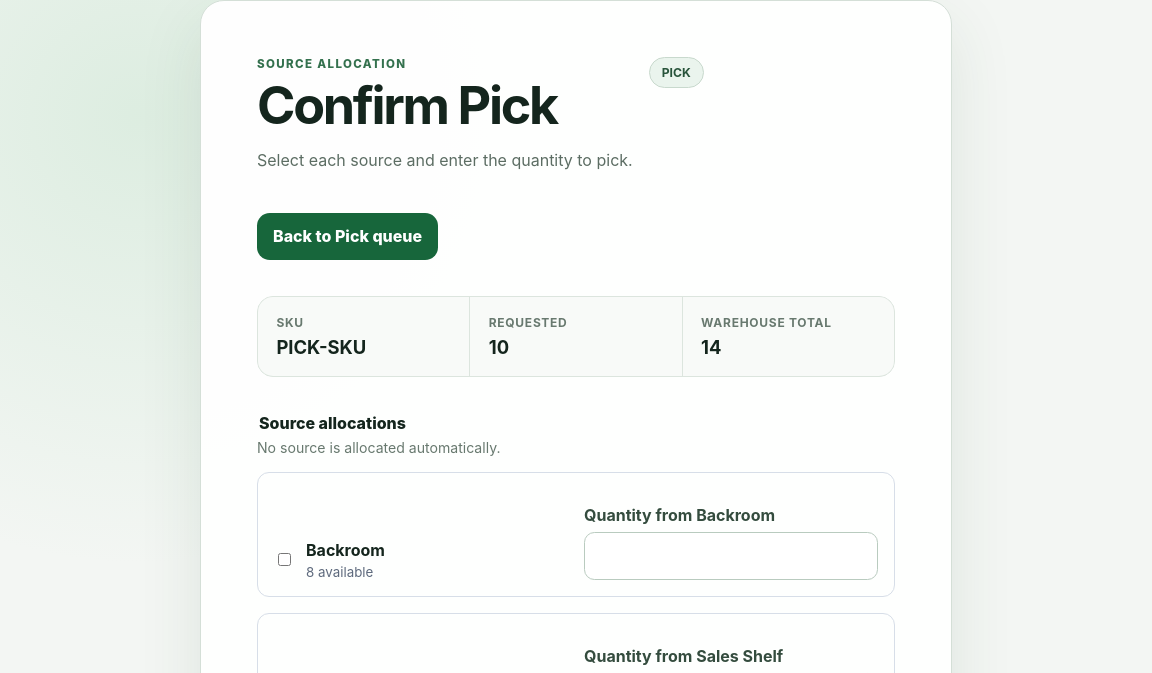
Test: US-PICK-001 Pick page › keeps entered allocations recoverable after an insufficient-stock conflict
Expected: the text "PICK-SKU" is shown, x1=276 y1=336 x2=366 y2=358
Click the checkbox labelled "Backroom 8 available". click: (284, 560)
box: x1=278 y1=553 x2=291 y2=566
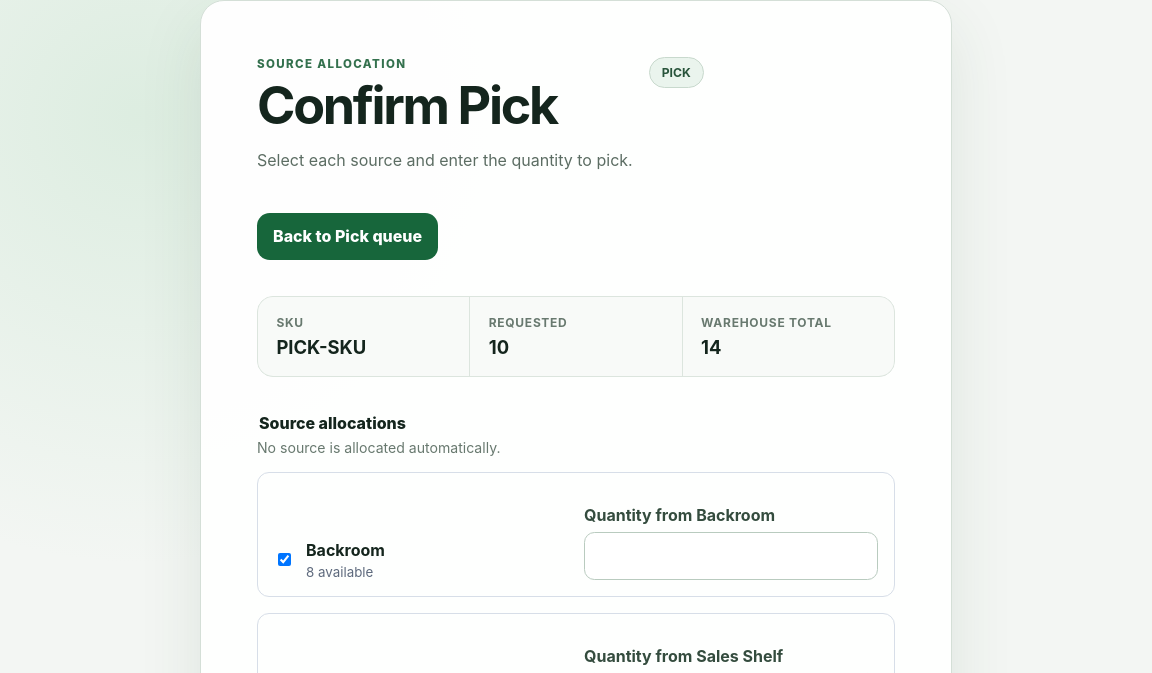
Type "10" into the field labelled "Quantity from Backroom". click: (731, 556)
box: x1=584 y1=532 x2=878 y2=580
(page scrolled)
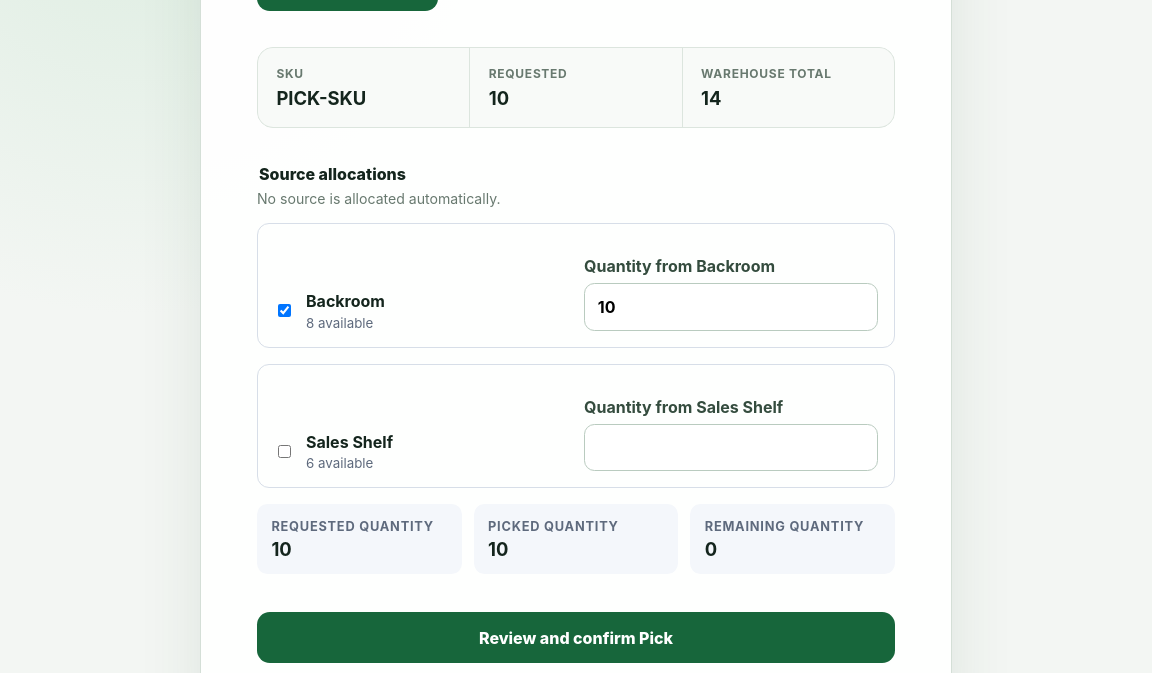
Click the button "Review and confirm Pick". click: (576, 638)
box: x1=257 y1=612 x2=895 y2=663
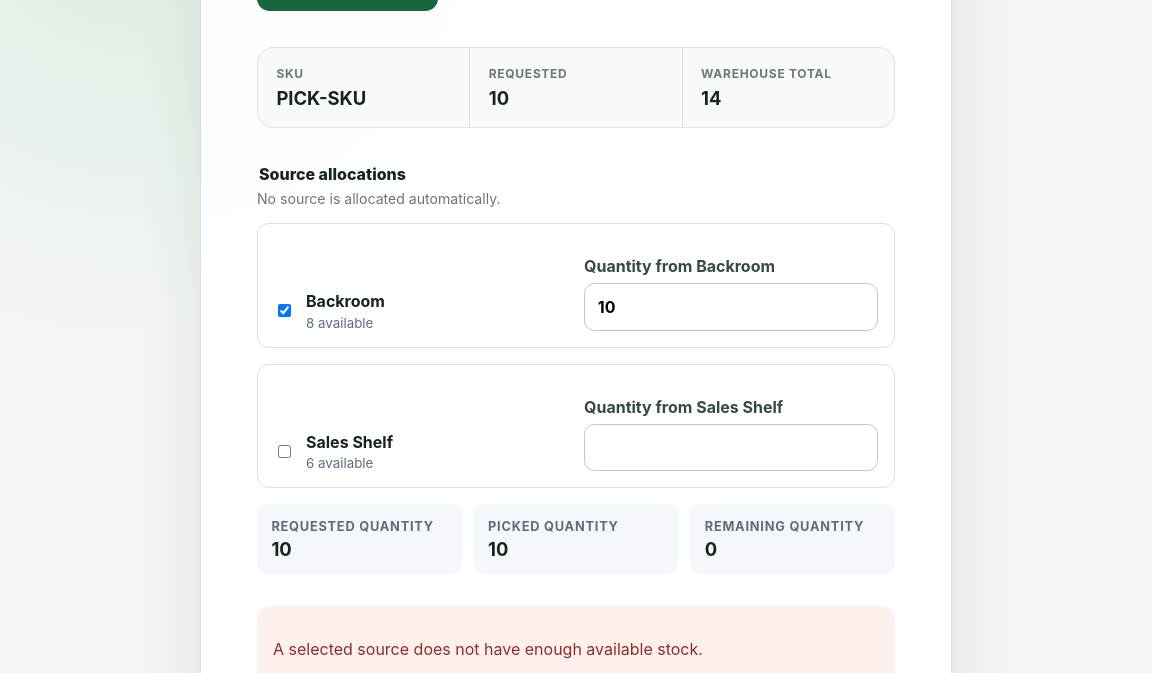
Result: the message shows "does not have enough available stock" at x1=273 y1=639 x2=703 y2=659
